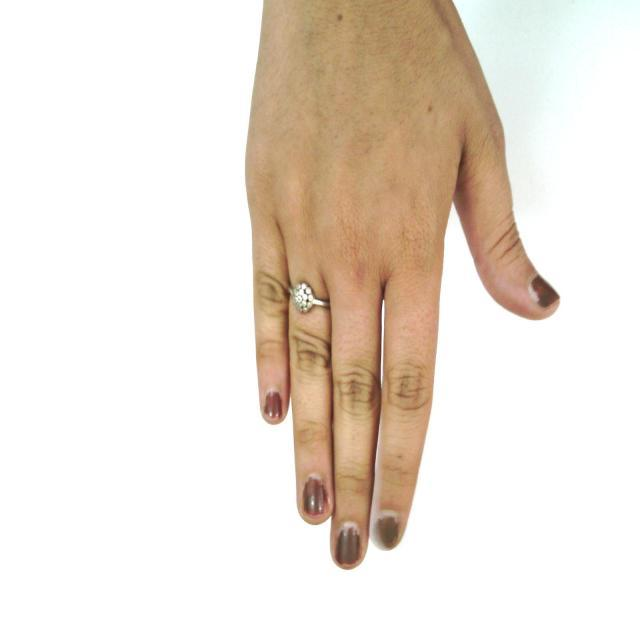Fingernail: (334, 521, 361, 566), (374, 509, 402, 550), (529, 274, 561, 307), (302, 474, 327, 516), (263, 386, 282, 421)
